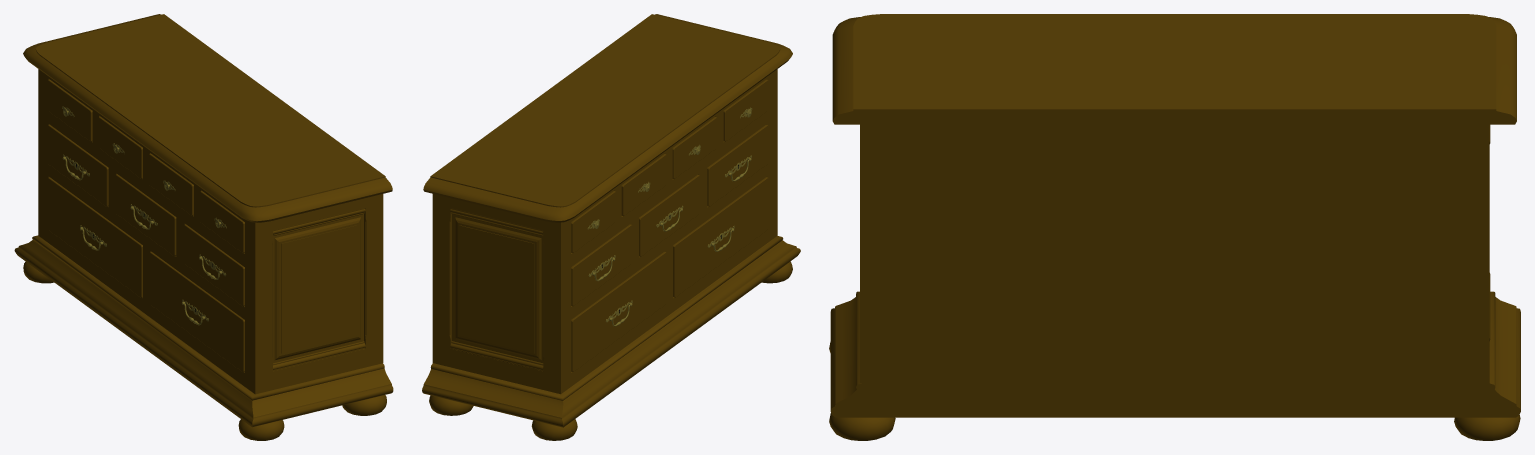
The model's file is commode.fbx.
3 renders of one model, left to right at view 1: azimuth 30°, elevation 25°; view 2: azimuth 150°, elevation 25°; view 3: azimuth 270°, elevation 25°, orthographic. The views are drawn at different scales.
Parts seen in each view (by area): view 1: Chest of drawers, Drawer_Big1, Drawer_Big2, Drawer_Med2 (×2), Drawer_Med1, Drawer1, Drawer3, Drawer2, Drawer4; view 2: Chest of drawers, Drawer_Big1, Drawer_Big2, Drawer_Med2 (×2), Drawer_Med1, Drawer2, Drawer4, Drawer3, Drawer1; view 3: Chest of drawers.
Part boxes in pixels (x1,y1,x2,y2): Chest of drawers: (14, 14, 393, 440); Drawer_Big1: (47, 177, 142, 297); Drawer_Big2: (149, 252, 244, 372); Drawer_Med2 (×2): (115, 174, 244, 306); Drawer_Med1: (47, 124, 108, 206); Drawer1: (47, 79, 92, 141); Drawer3: (148, 153, 193, 215); Drawer2: (98, 116, 142, 178); Drawer4: (200, 191, 244, 253); Chest of drawers: (422, 14, 800, 440); Drawer_Big1: (571, 251, 666, 371); Drawer_Big2: (673, 177, 768, 297); Drawer_Med2 (×2): (639, 124, 768, 256); Drawer_Med1: (571, 224, 632, 306); Drawer2: (621, 154, 666, 216); Drawer4: (723, 79, 768, 141); Drawer3: (672, 117, 717, 179); Drawer1: (571, 191, 616, 252); Chest of drawers: (829, 14, 1520, 440).
Size of the model in its own units: 56.2 by 86.19 by 163.
